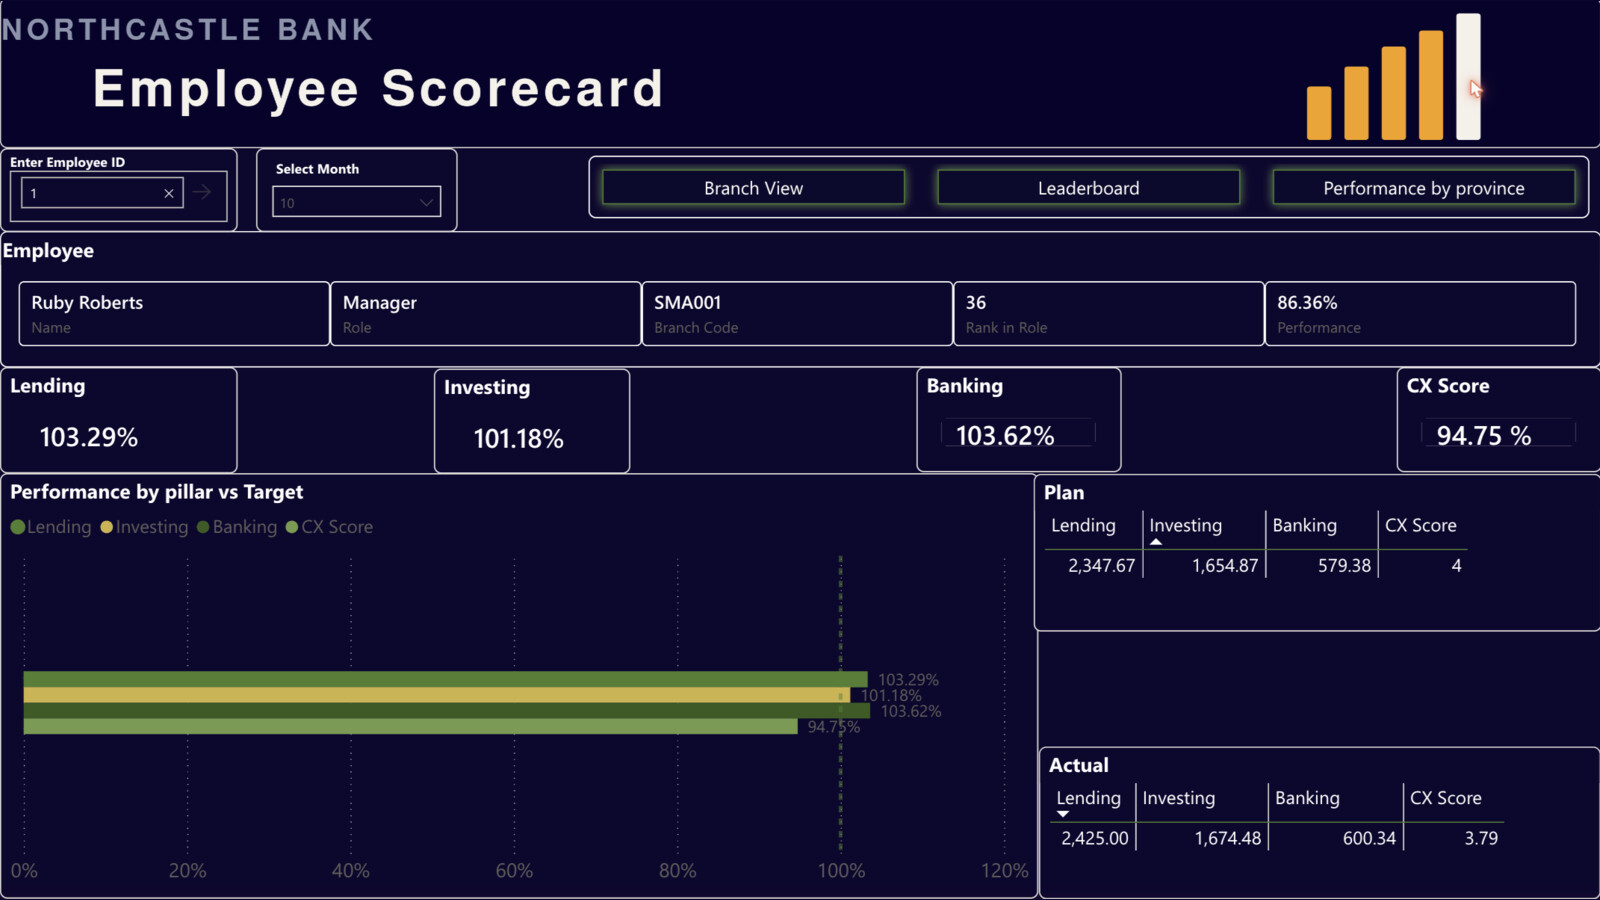

This screenshot's page, from the dashboard's own definition file:
{"tool":"powerbi","page":{"name":"My scorecard","canvas":[1280,720],"ordinal":1},"visuals":[{"type":"cardVisual","title":"Employee","fields":{"Data":["Min(dim_employee.Name)","Min(dim_employee.role)","Min(dim_employee.branch_code)","fact_sales.Rank in Role","fact_sales.Weighted Score"]},"box":[0,186.7,1280,108.5],"z":0},{"type":"textSlicer","fields":{"Values":["dim_employee.employee_id"]},"box":[0,119.8,190.2,66.9],"z":1000},{"type":"slicer","fields":{"Values":["dim_month.month_number"]},"box":[205.1,119.9,160.6,67.1],"z":2000},{"type":"image","box":[0,0,1280,119.8],"z":3000},{"type":"clusteredBarChart","title":"Performance by pillar vs Target","fields":{"Y":["fact_sales.Pct_lending","fact_sales.pct_investing","fact_sales.pct_banking_units","fact_sales.Pct LEI"]},"box":[0,379.6,830.5,340.4],"z":4000},{"type":"cardVisual","title":"LEI","fields":{"Data":["fact_sales.Pct LEI"]},"box":[1068.9,296.1,117.3,84.2],"z":5000},{"type":"cardVisual","title":"Investing","fields":{"Data":["fact_sales.pct_investing"]},"box":[347.1,296.1,156.7,84.2],"z":6000},{"type":"cardVisual","title":"Banking","fields":{"Data":["fact_sales.pct_banking_units"]},"box":[716.5,296.4,163.6,83.9],"z":7000},{"type":"pageNavigator","box":[470.6,126.1,800.3,50],"z":8000},{"type":"tableEx","title":"Plan","fields":{"Values":["fact_targets.target_lending","fact_targets.target_investing","fact_targets.target_banking_units","Sum(fact_targets.real_lei_target)"]},"box":[830.5,439.7,387.3,127.2],"z":9000},{"type":"tableEx","title":"Actual","fields":{"Values":["fact_sales.lending_actual","fact_sales.investing_actual","fact_sales.banking_units_actual","fact_sales.lei_actual"]},"box":[830.5,587.2,387.3,124.4],"z":10000},{"type":"textbox","box":[870.7,379.7,246.6,50.7],"z":11000},{"type":"cardVisual","title":"Lending","fields":{"Data":["fact_sales.Pct_lending"]},"box":[0,295.2,190.2,84.5],"z":12000}]}

Visuals, with their boxes in screenshot pixels (x1, y1, x2, y2), scaled from the page's 1280x720 canvas onto the 1600x900 screenshot:
"Employee" cardVisual: <bbox>0, 233, 1599, 369</bbox>
textSlicer - dim_employee.employee_id: <bbox>0, 150, 238, 233</bbox>
slicer - dim_month.month_number: <bbox>256, 150, 457, 234</bbox>
image: <bbox>0, 0, 1599, 150</bbox>
"Performance by pillar vs Target" clusteredBarChart: <bbox>0, 474, 1038, 899</bbox>
"LEI" cardVisual: <bbox>1336, 370, 1483, 475</bbox>
"Investing" cardVisual: <bbox>434, 370, 630, 475</bbox>
"Banking" cardVisual: <bbox>896, 370, 1100, 475</bbox>
pageNavigator: <bbox>588, 158, 1589, 220</bbox>
"Plan" tableEx: <bbox>1038, 550, 1522, 709</bbox>
"Actual" tableEx: <bbox>1038, 734, 1522, 890</bbox>
textbox: <bbox>1088, 475, 1397, 538</bbox>
"Lending" cardVisual: <bbox>0, 369, 238, 475</bbox>
